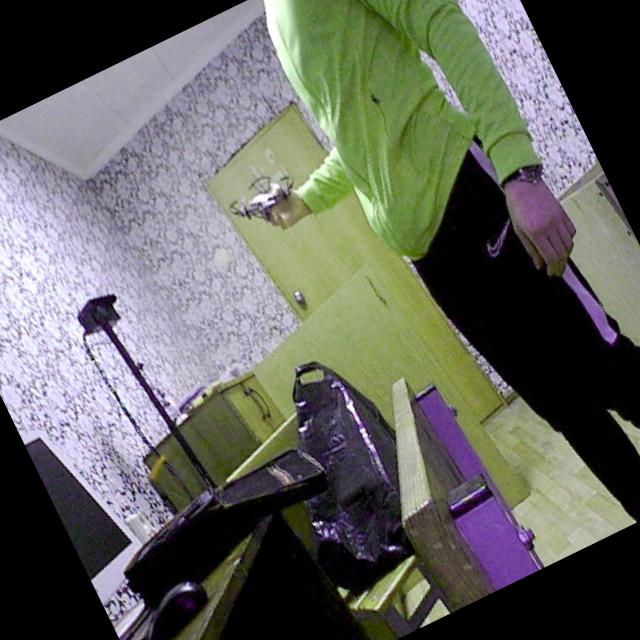drone: (214, 156, 306, 238)
